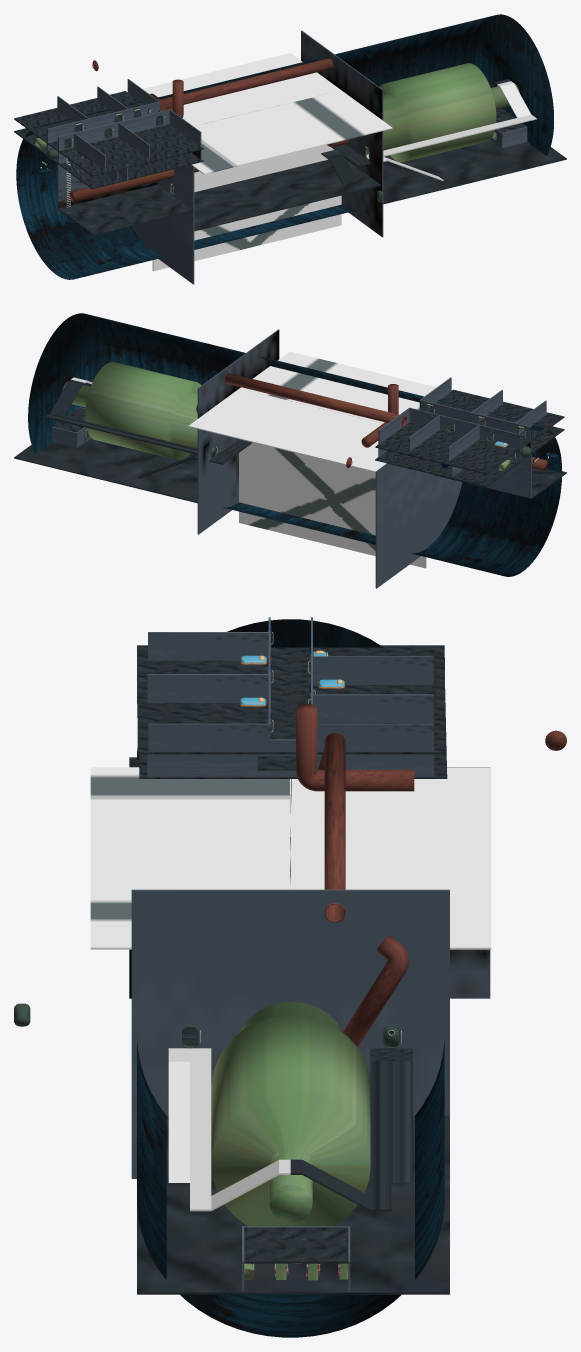
Rendered from level.glb.
The picture shows the model from 3 angles, top to bottom: view 1: azimuth 30°, elevation 25°; view 2: azimuth 150°, elevation 25°; view 3: azimuth 270°, elevation 25°; orthographic projection. The views are drawn at different scales.
Visible parts, largest first — view 1: SubBody, Netting, Engine, Floor.003, Floor.004, Floor.001, Wall.016, Floor, Wall, PipeYouSwimThrough, Gangway, Floor.002 (+13 smaller); view 2: Netting, SubBody, Engine, Wall, Floor.004, Wall.016, Floor.001, Floor.002, PipeYouSwimThrough, GangwayMirrored, Wall.001, Wall.007 (+12 smaller); view 3: Wall.016, Netting, Engine, Floor.004, SubBody, Floor.001, Gangway, GangwayMirrored, WallWithWindow, Ceiling, PipeYouSwimThrough, Wall.010 (+9 smaller).
Part boxes in pixels (box(x1,y1,x2,y2)): SubBody: box(16, 14, 553, 279); Netting: box(143, 53, 392, 271); Engine: box(367, 63, 519, 162); Floor.003: box(194, 159, 380, 231); Floor.004: box(383, 137, 566, 204); Floor.001: box(14, 91, 203, 176); Wall.016: box(301, 30, 383, 237); Floor: box(58, 184, 193, 235); Wall: box(132, 165, 194, 284); PipeYouSwimThrough: box(150, 58, 333, 111); Gangway: box(366, 81, 536, 180); Floor.002: box(14, 128, 203, 189); Netting: box(188, 351, 436, 568); SubBody: box(28, 313, 562, 576); Engine: box(62, 362, 201, 460); Wall: box(375, 463, 462, 588); Floor.004: box(14, 438, 197, 503); Wall.016: box(197, 329, 279, 534); Floor.001: box(375, 389, 564, 474); Floor.002: box(375, 426, 564, 486); PipeYouSwimThrough: box(225, 373, 406, 426); GangwayMirrored: box(45, 379, 197, 478); Wall.001: box(409, 408, 520, 448); Wall.007: box(420, 400, 531, 441); Wall.016: box(131, 889, 449, 1178); Netting: box(90, 767, 491, 949); Engine: box(211, 1001, 370, 1226); Floor.004: box(137, 1115, 449, 1294); SubBody: box(137, 619, 444, 1337); Floor.001: box(137, 645, 445, 754); Gangway: box(168, 1048, 290, 1211); GangwayMirrored: box(290, 1048, 412, 1211); WallWithWindow: box(147, 754, 434, 777); Ceiling: box(244, 1227, 348, 1263); PipeYouSwimThrough: box(318, 733, 345, 922); Wall.010: box(148, 723, 270, 752).
Size of the model in its own units: 106 by 36.55 by 52.1.
32 materials, 11 textured.
